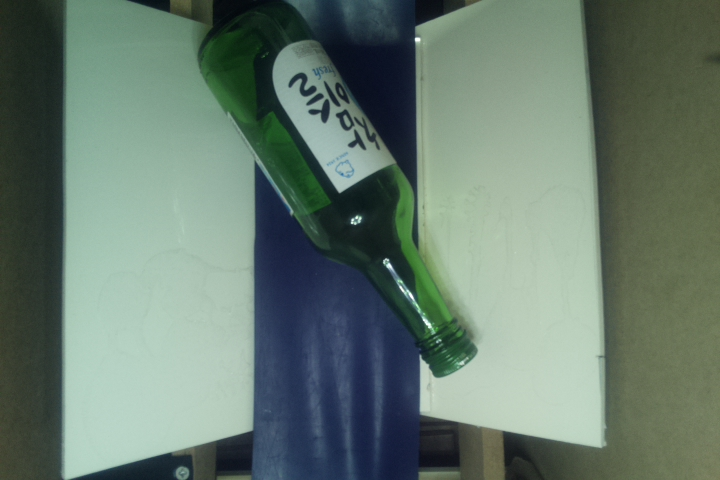soju: (189, 1, 477, 379)
